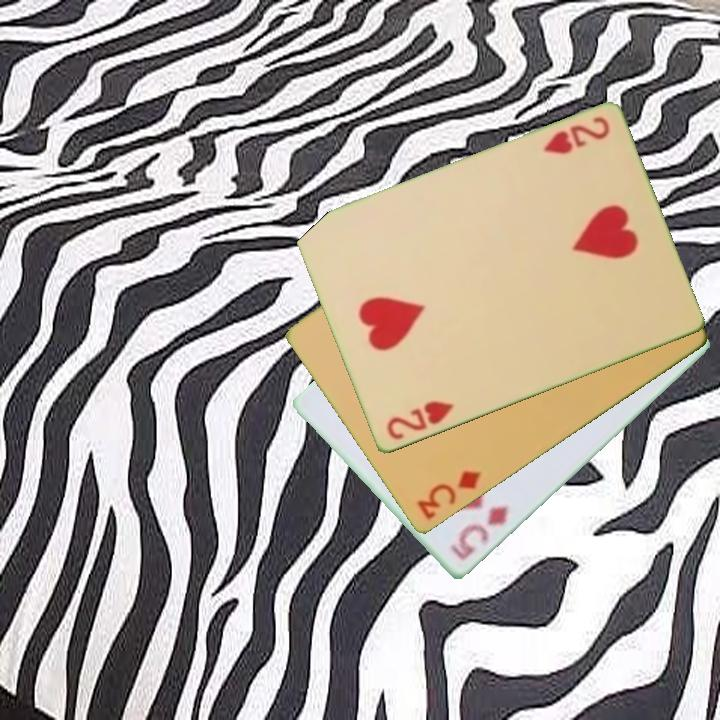2h: (383, 398, 456, 444), (540, 113, 613, 158)
3d: (413, 467, 483, 523)
5d: (446, 502, 512, 564)
